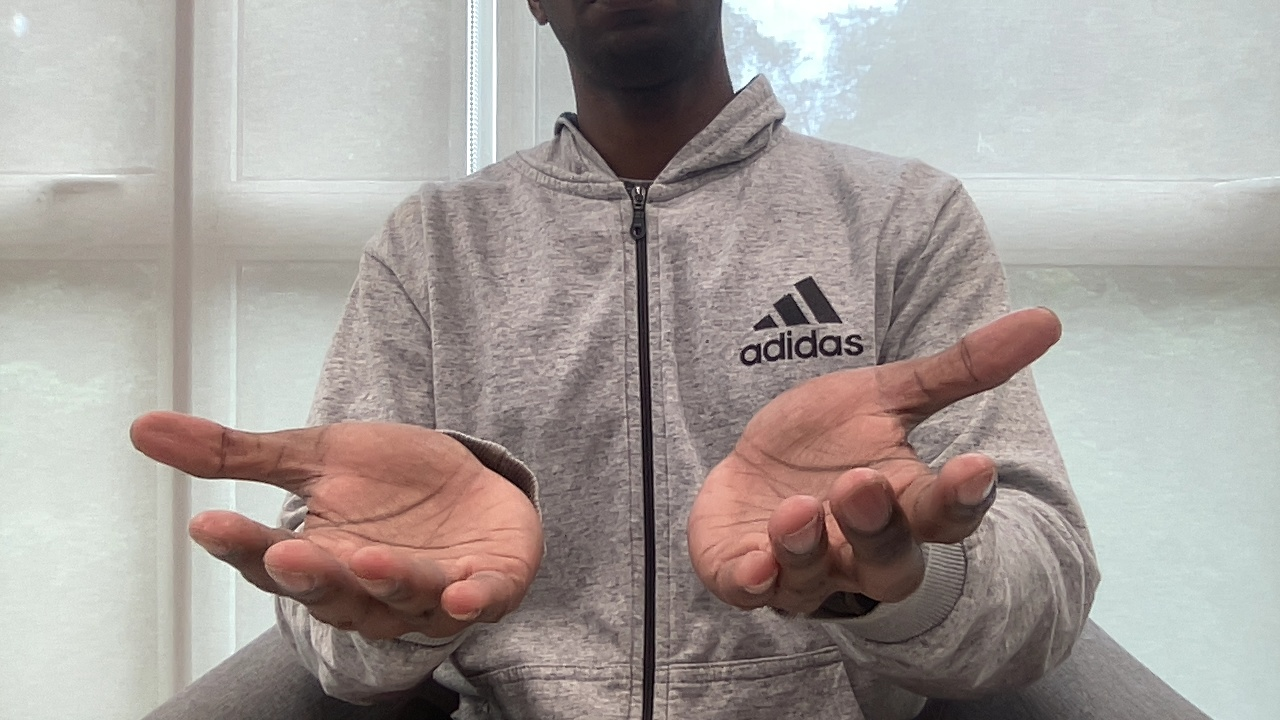give: (120, 302, 1074, 646)
